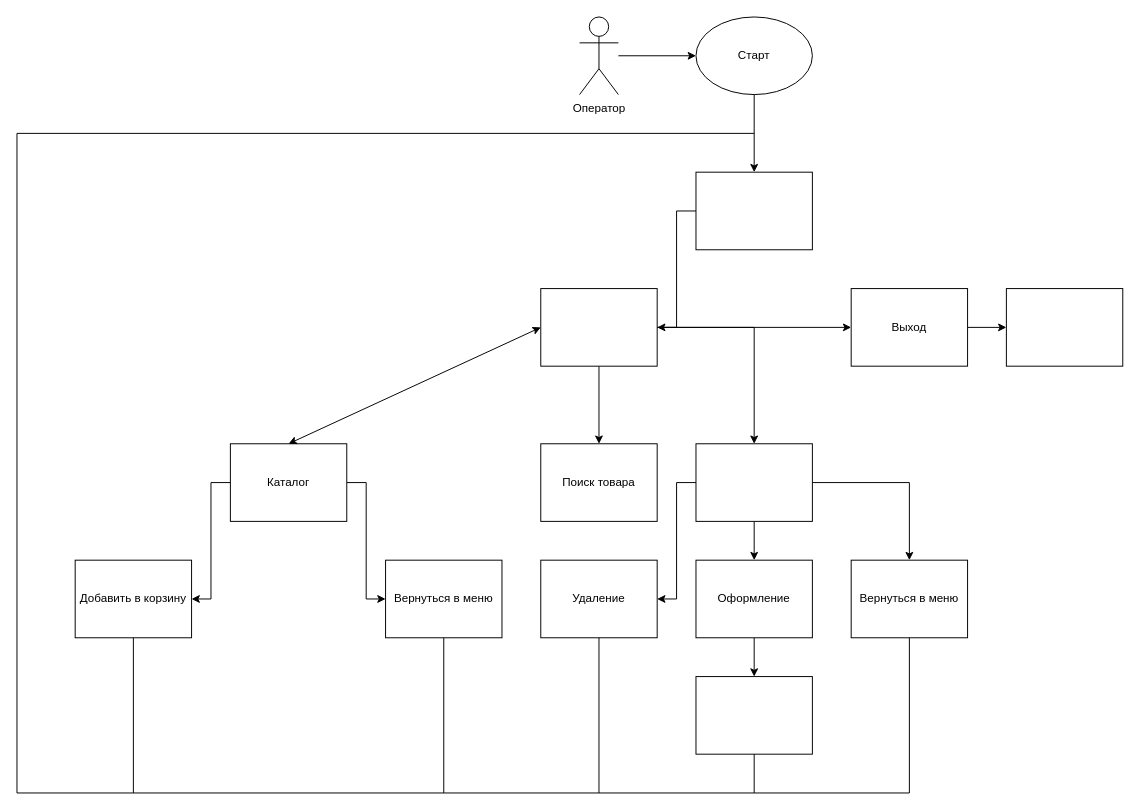
The diagram is 1140 pixels wide and 811 high, and some of its shapes have lost their labels. The shapes that lost their labels are listed below. From the top down, each one's centre as x and y in pixels, then its label:
(753,210): Начало программы
(598,327): Выбор действия
(1064,327): Конец
(753,482): Корзина
(753,715): Ввод данных
